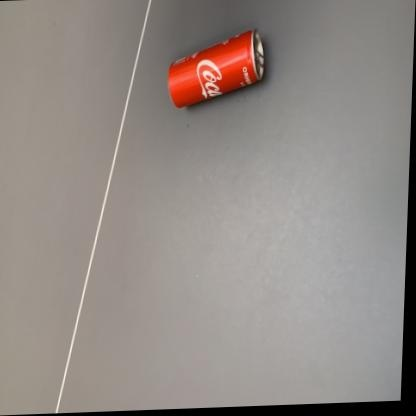trash: (168, 30, 263, 107)
